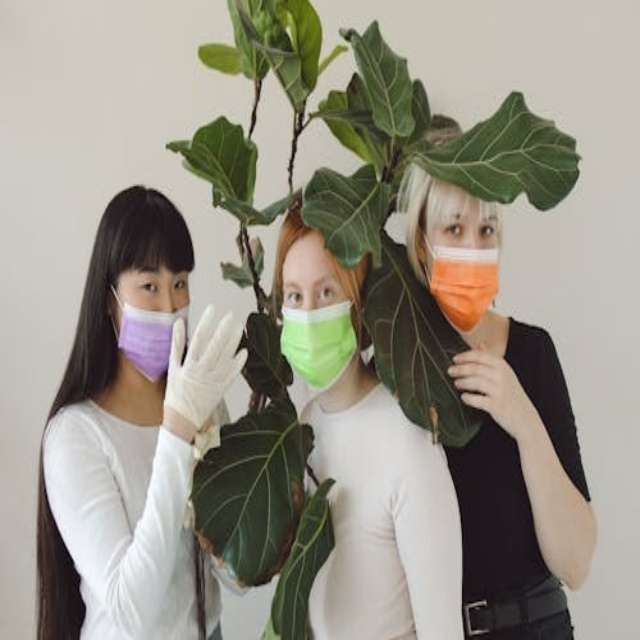Guantes: (163, 304, 248, 439)
Mascara: (423, 233, 500, 330), (278, 298, 359, 389), (112, 287, 189, 381)
Sin_gafas: (445, 223, 463, 236), (479, 224, 495, 238), (320, 286, 336, 300), (140, 281, 158, 293), (287, 291, 302, 305), (173, 279, 186, 291)
Sin_guantes: (447, 347, 528, 433)
